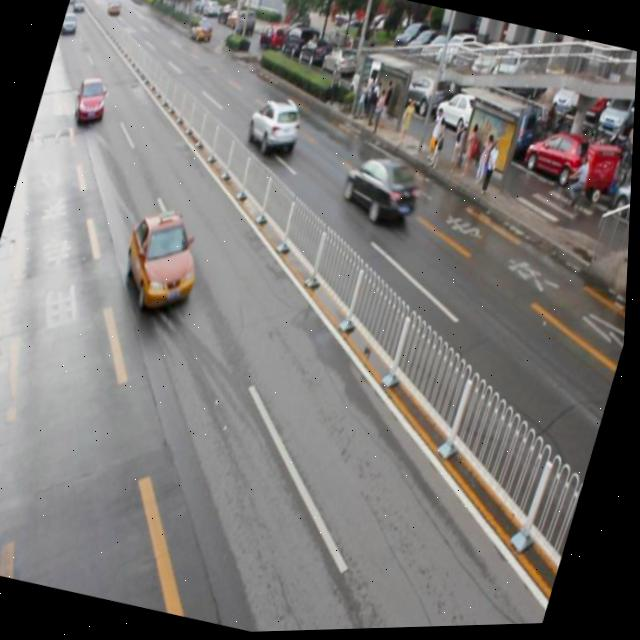car: (112, 203, 214, 320), (337, 149, 429, 230), (242, 94, 306, 160), (70, 75, 115, 131)
